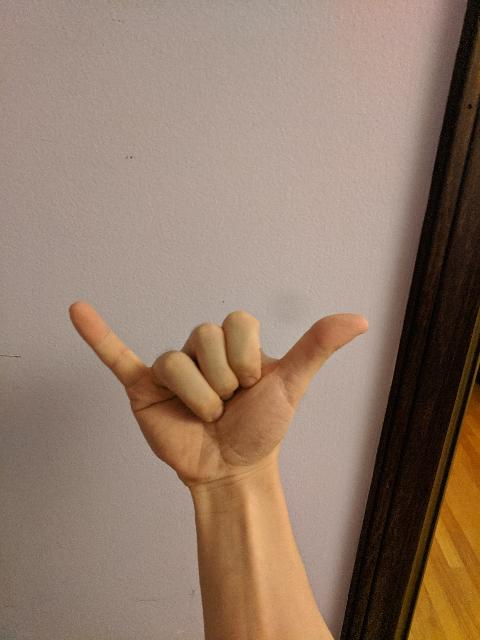Y: (65, 296, 377, 497)
